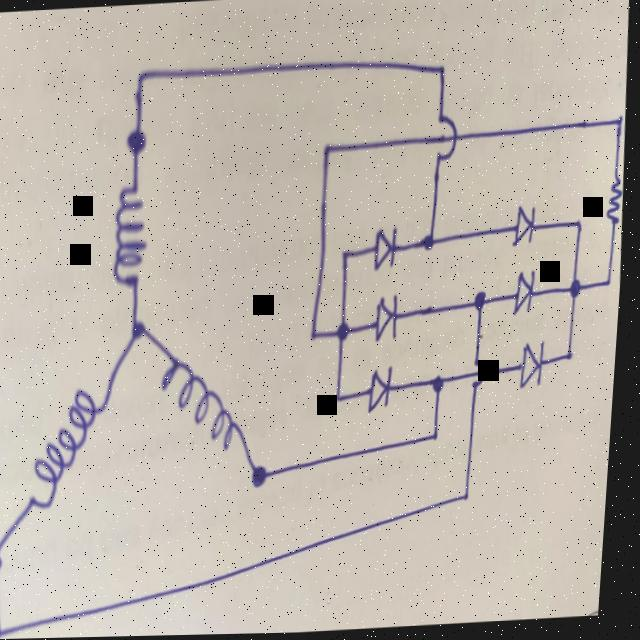crossover: (433, 114, 460, 164), (474, 361, 493, 395)
diode: (375, 296, 404, 343), (372, 227, 401, 273), (520, 345, 549, 391), (371, 369, 396, 413), (515, 272, 539, 316), (514, 206, 539, 248)
inductor: (32, 388, 107, 510), (161, 357, 246, 455), (111, 186, 154, 293)
junction: (126, 124, 151, 163), (253, 460, 276, 492), (131, 313, 152, 346), (131, 64, 151, 94), (567, 278, 587, 307), (318, 140, 338, 165), (473, 291, 492, 317), (0, 546, 13, 581), (309, 322, 327, 347), (420, 232, 440, 254), (339, 244, 356, 269), (432, 377, 451, 399), (337, 321, 355, 344), (463, 483, 479, 507), (335, 387, 351, 411), (433, 59, 449, 83), (611, 112, 627, 136), (572, 217, 589, 239), (0, 619, 17, 639), (432, 426, 447, 448), (603, 274, 618, 294), (566, 346, 580, 366)
resistor: (605, 174, 627, 232)
